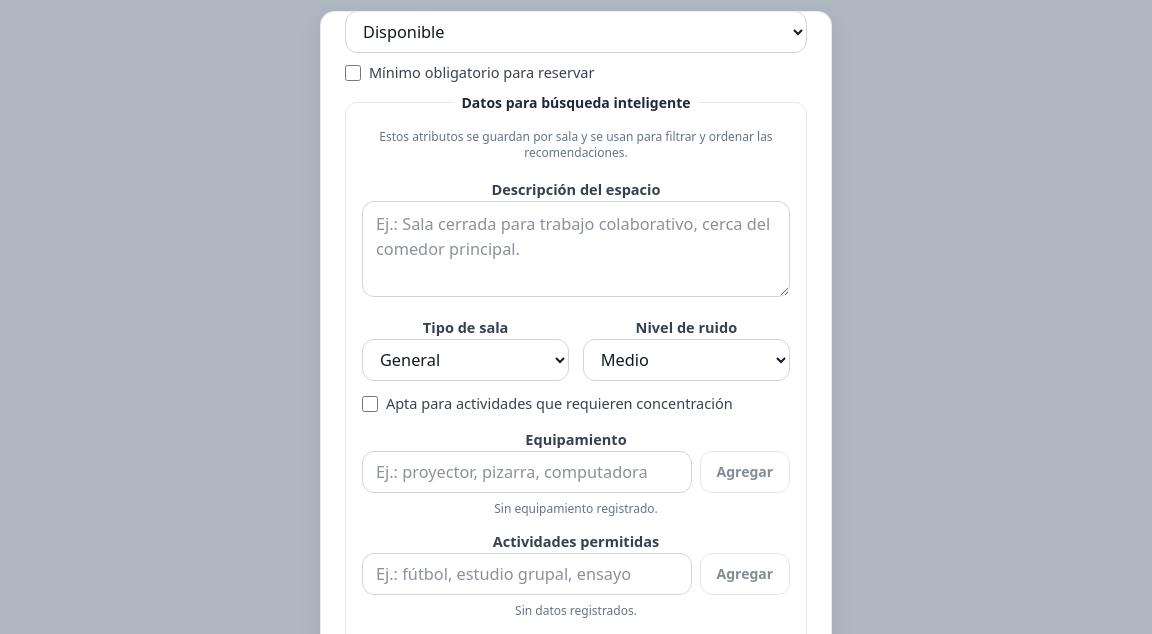
it: RoomFormModal intelligent search data › allows the administrator to edit attributes and add or remove equipment
(page scrolled)
Select "Estudio grupal" in the dropdown labelled "Tipo de sala" at (466, 360), box [362, 339, 569, 381]
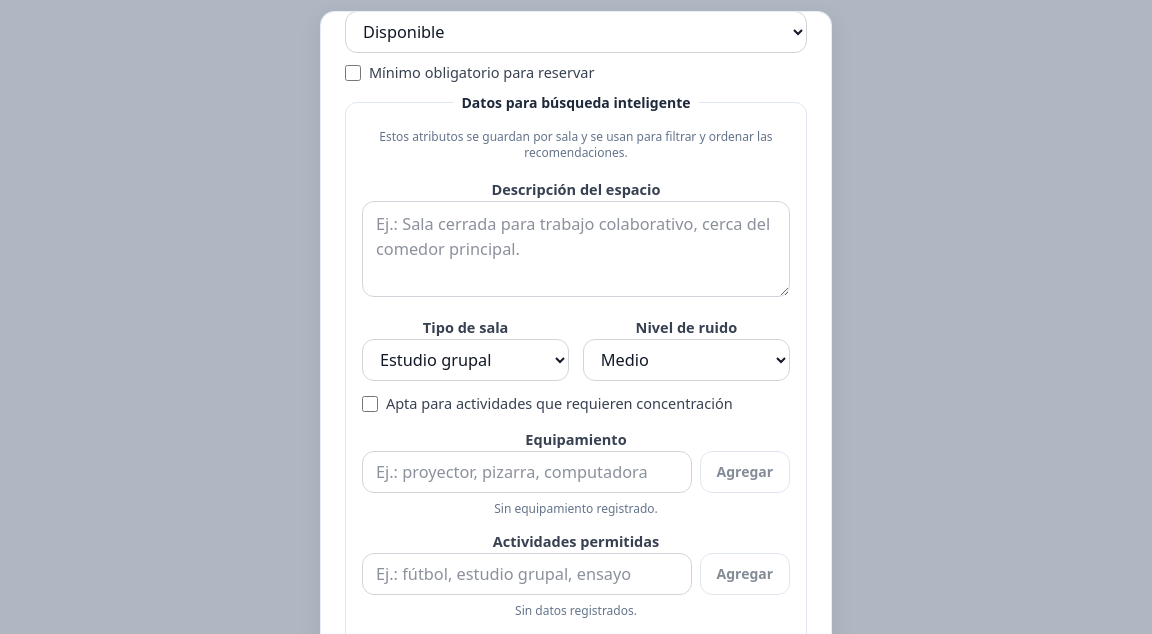
Select "Bajo" in the dropdown labelled "Nivel de ruido" at (686, 360), box [583, 339, 790, 381]
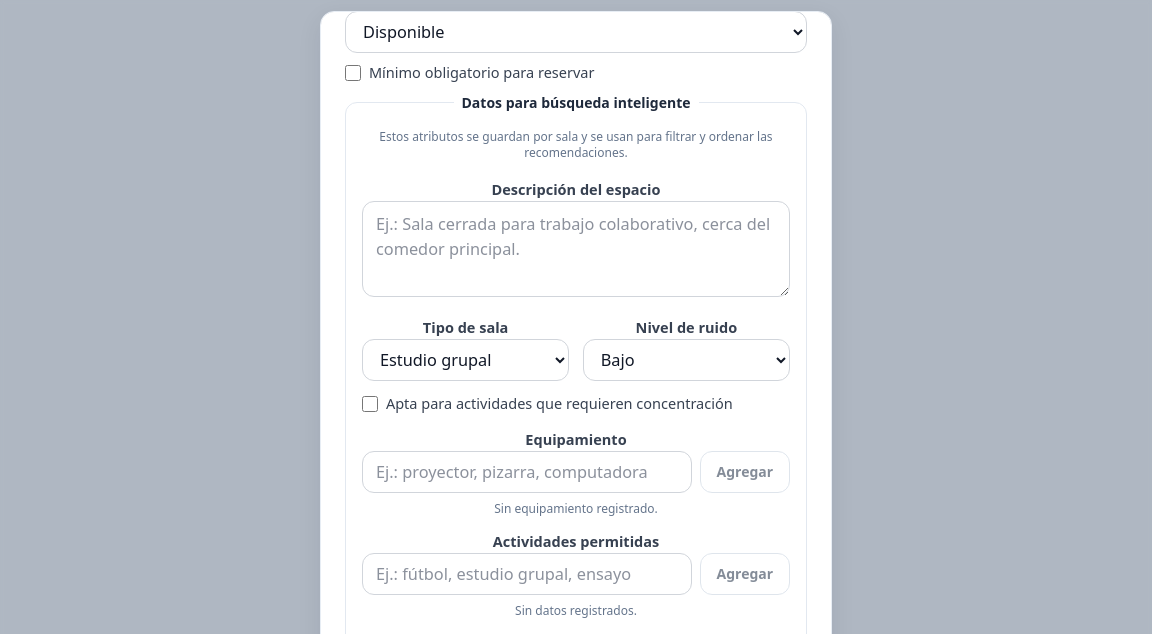
Click the checkbox labelled "Apta para actividades que requieren concentración" at (370, 404), box [362, 396, 378, 412]
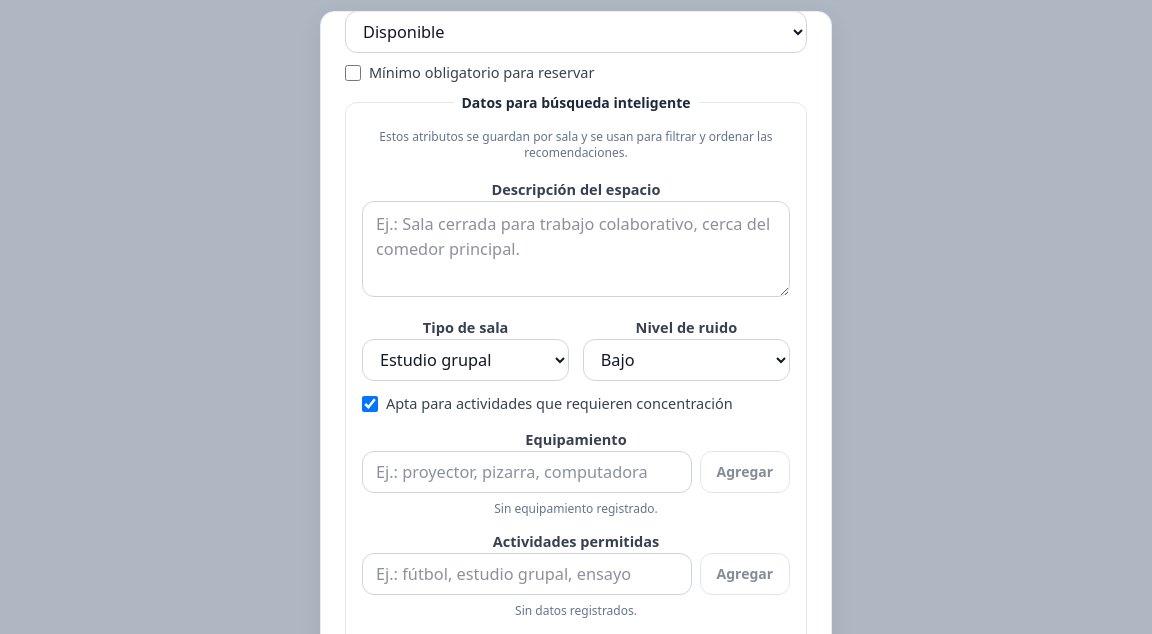
Check: the checkbox labelled "Apta para actividades que requieren concentración" is checked, box [362, 396, 378, 412]
Type "Pizarra" into the field labelled "Equipamiento" at (527, 472), box [362, 451, 692, 493]
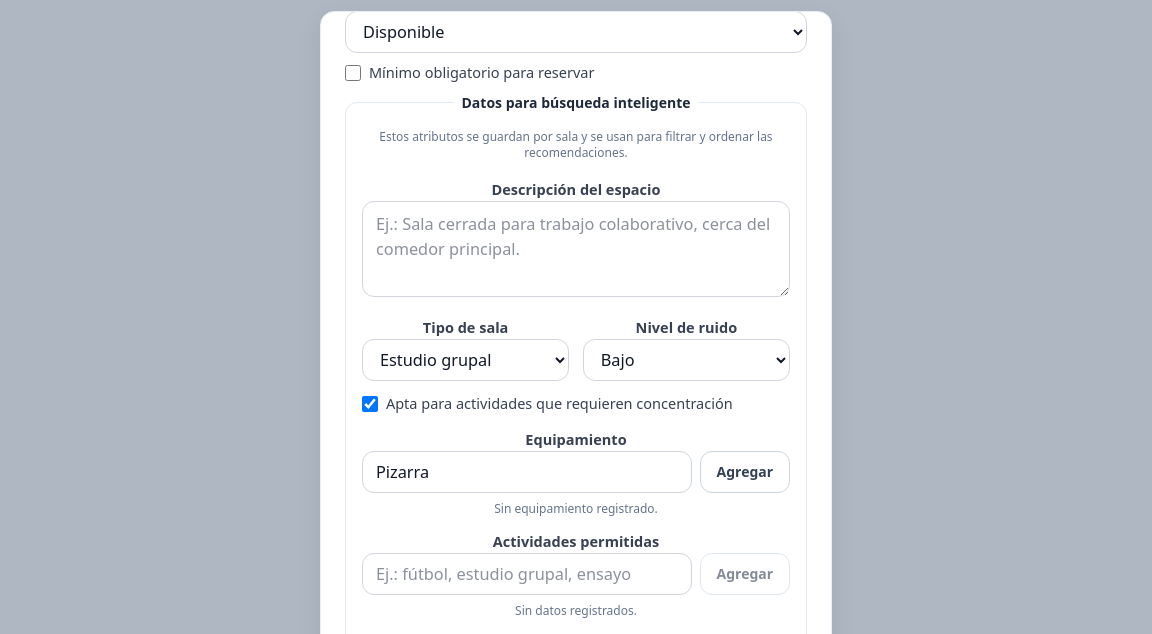
Click the 1st button "Agregar" at (745, 472), box [700, 451, 790, 493]
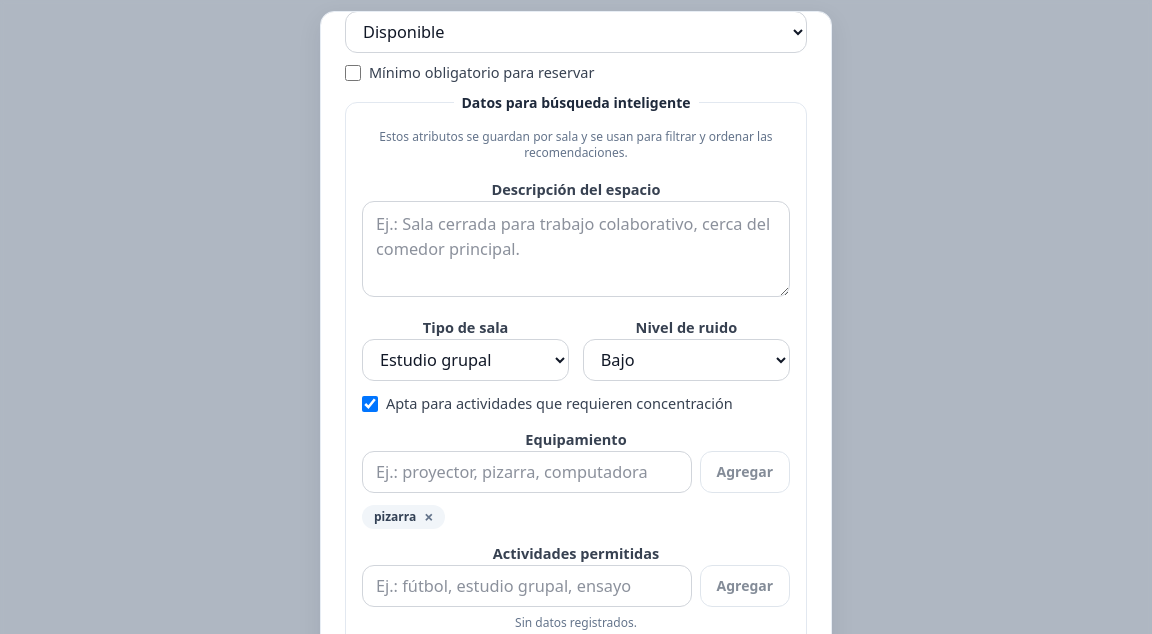
Check: the text "pizarra" is shown, box [374, 508, 416, 525]
Click the button named "Quitar pizarra" at (429, 517), box [424, 509, 433, 525]
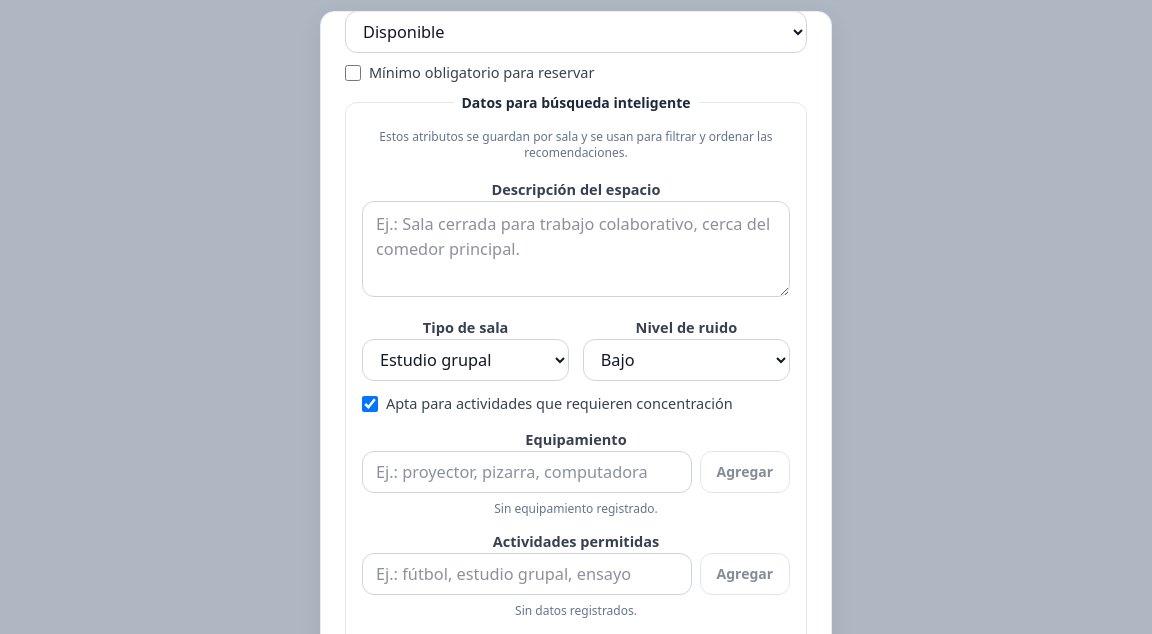
Check: the text "Sin equipamiento registrado." is shown, box [494, 500, 658, 517]
